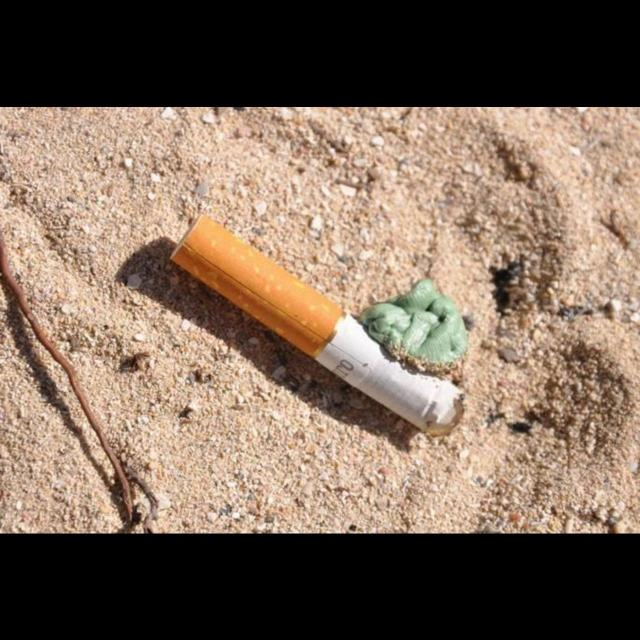cigarette: (170, 216, 465, 438)
